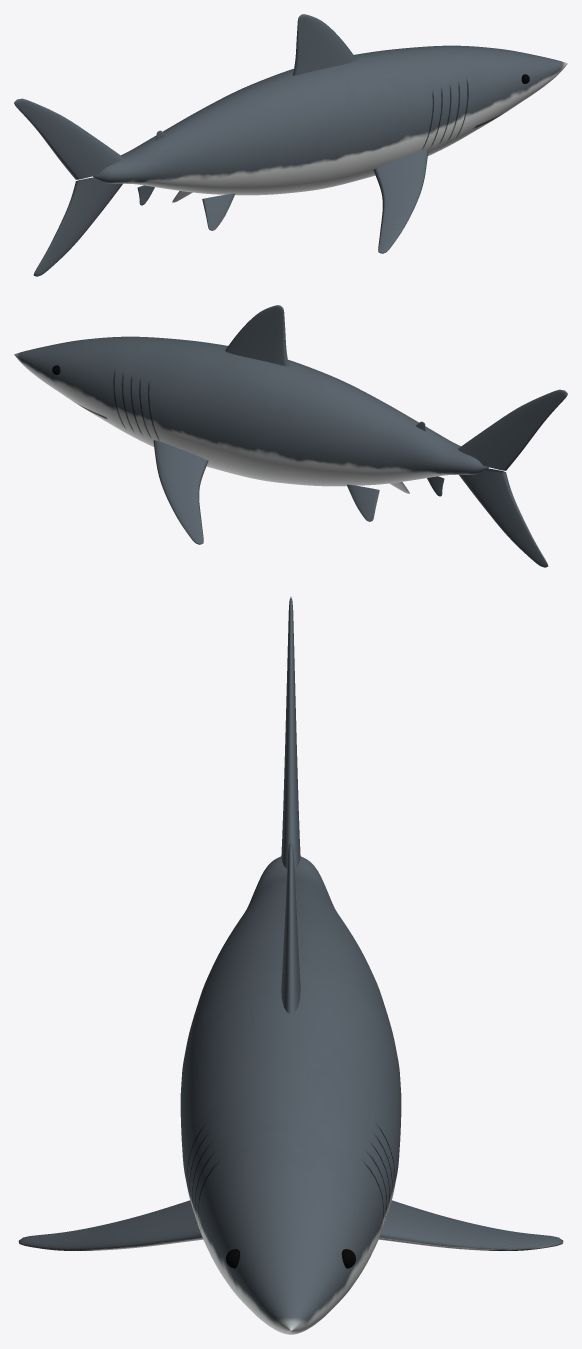
Rendered from greatWhiteLo.glb.
3 renders of one model, top to bottom at view 1: azimuth 30°, elevation 25°; view 2: azimuth 150°, elevation 25°; view 3: azimuth 270°, elevation 25°, orthographic. The views are drawn at different scales.
Parts seen in each view (by area): view 1: skin; view 2: skin; view 3: skin.
Part boxes in pixels (x1,y1,x2,y2): skin: [14, 14, 567, 276]; skin: [14, 305, 567, 567]; skin: [18, 597, 563, 1334].
Bounding box in the file's own units: 3.89 × 1.33 × 1.66.
Materials: 2 (1 with a texture image).
